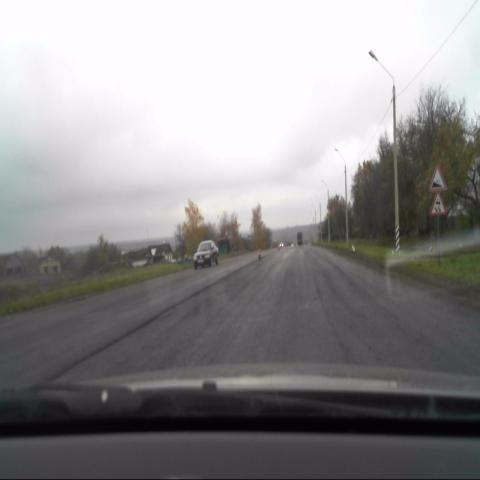1_13: (428, 164, 447, 192)
1_15: (429, 195, 447, 217)
